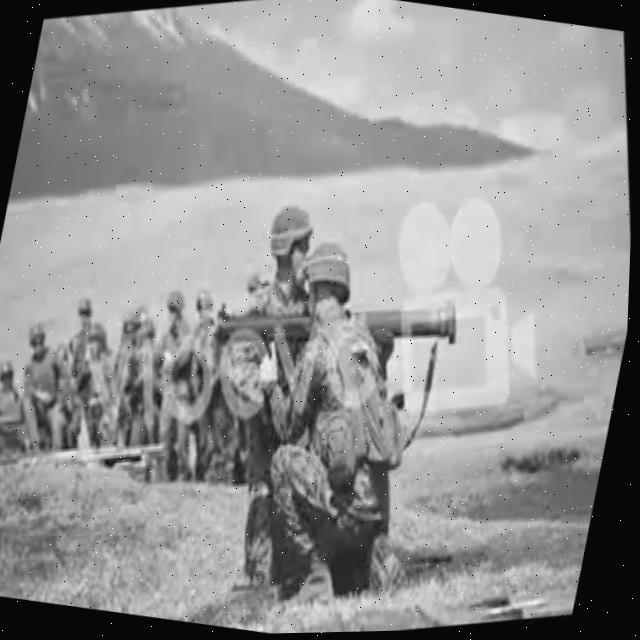rocket: (204, 253, 469, 400)
